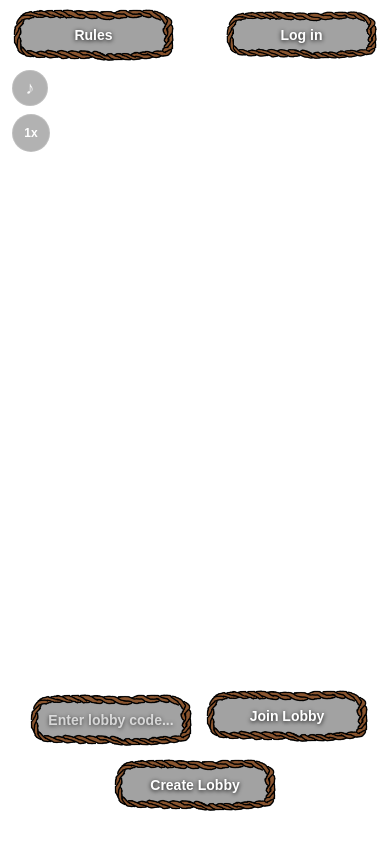
Test: WorldMapOverlay › Cancel closes the blank name popup without submitting
Click the button "Create Lobby".
click(195, 785)  # box [70, 758, 320, 812]
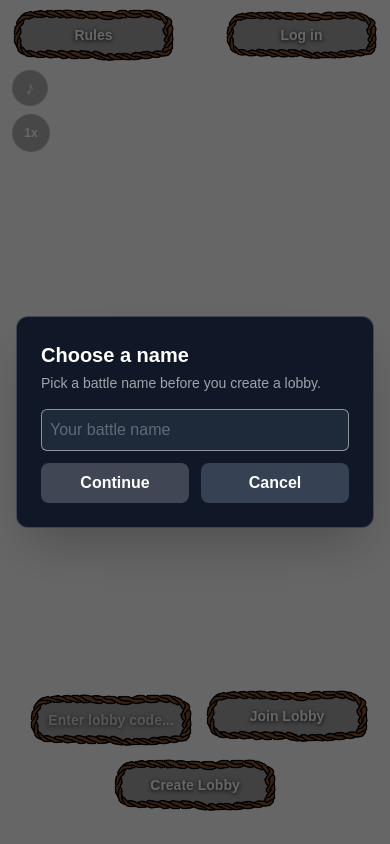
Expected: the heading "Choose a name" is shown, [41, 344, 189, 366]
Click the button "Cancel".
click(275, 483)  # box [201, 463, 349, 503]
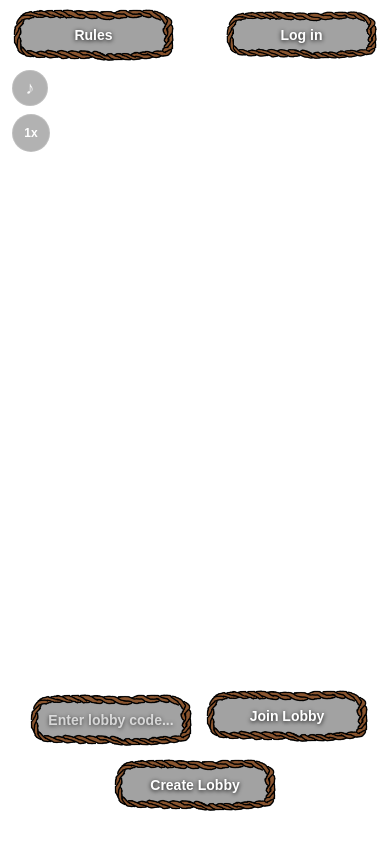
Expected: the heading "Choose a name" is gone
